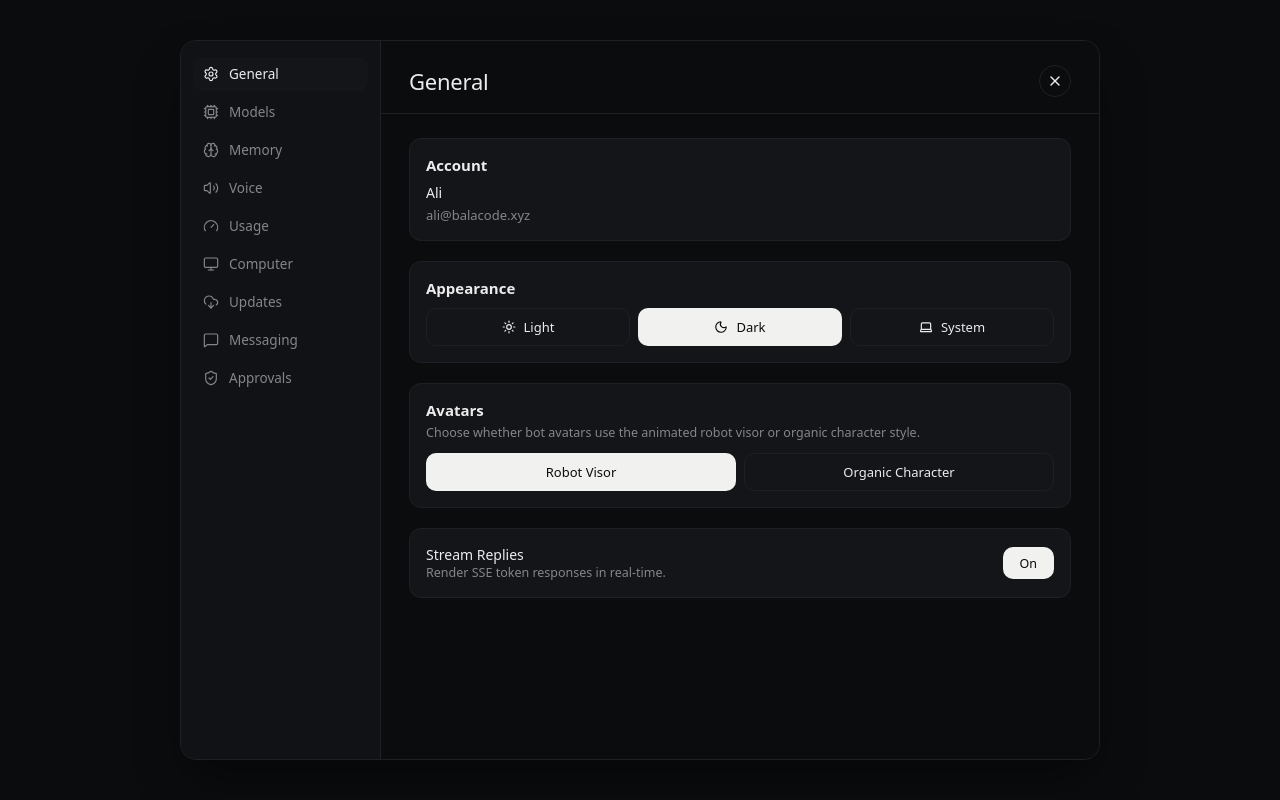
Test: ApprovalRulesSettings panel mount › mounts the ApprovalRulesSettings panel when approvals tab is clicked
Click the button with test id "settings-nav-approvals". click: [280, 378]
box: left=193, top=361, right=368, bottom=395
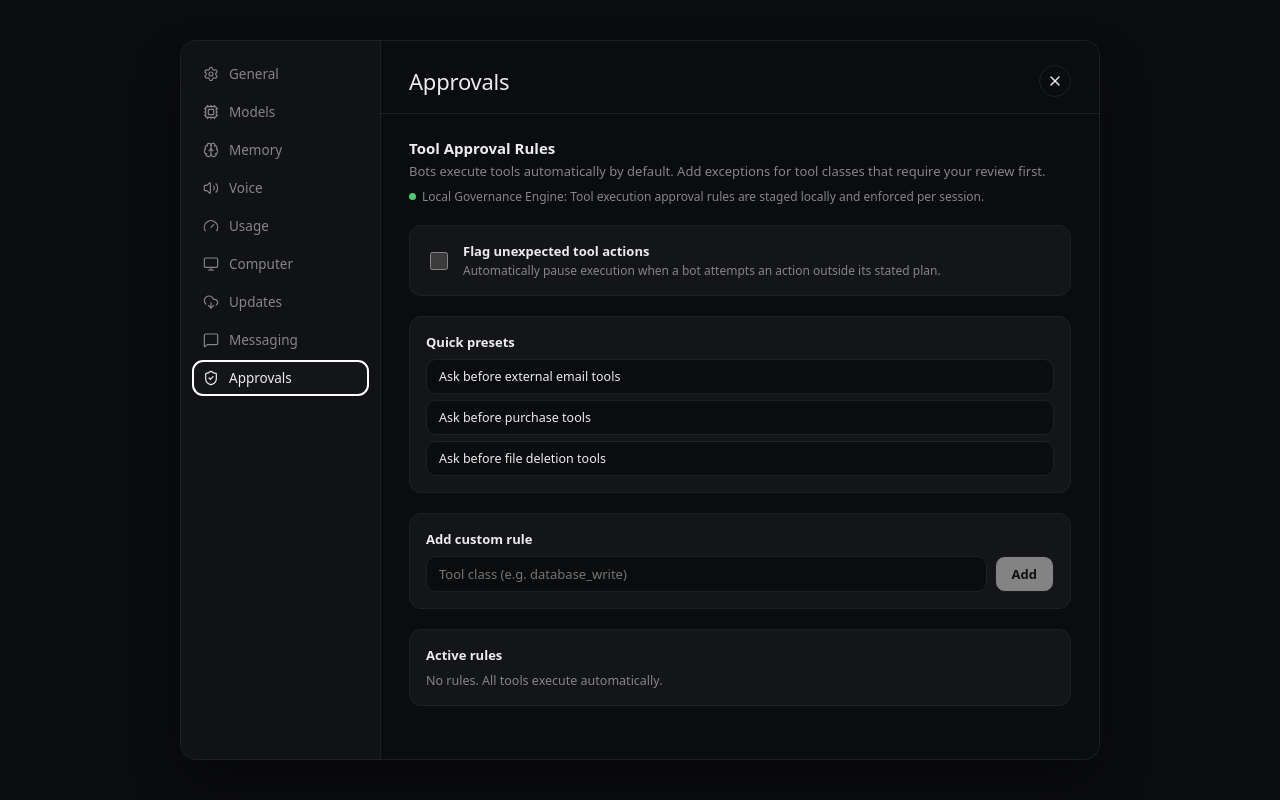
Check: the element with test id "approval-rules-settings" is shown, box left=409, top=138, right=1071, bottom=706
Check: the heading "Tool Approval Rules" is shown, box left=409, top=138, right=555, bottom=158
